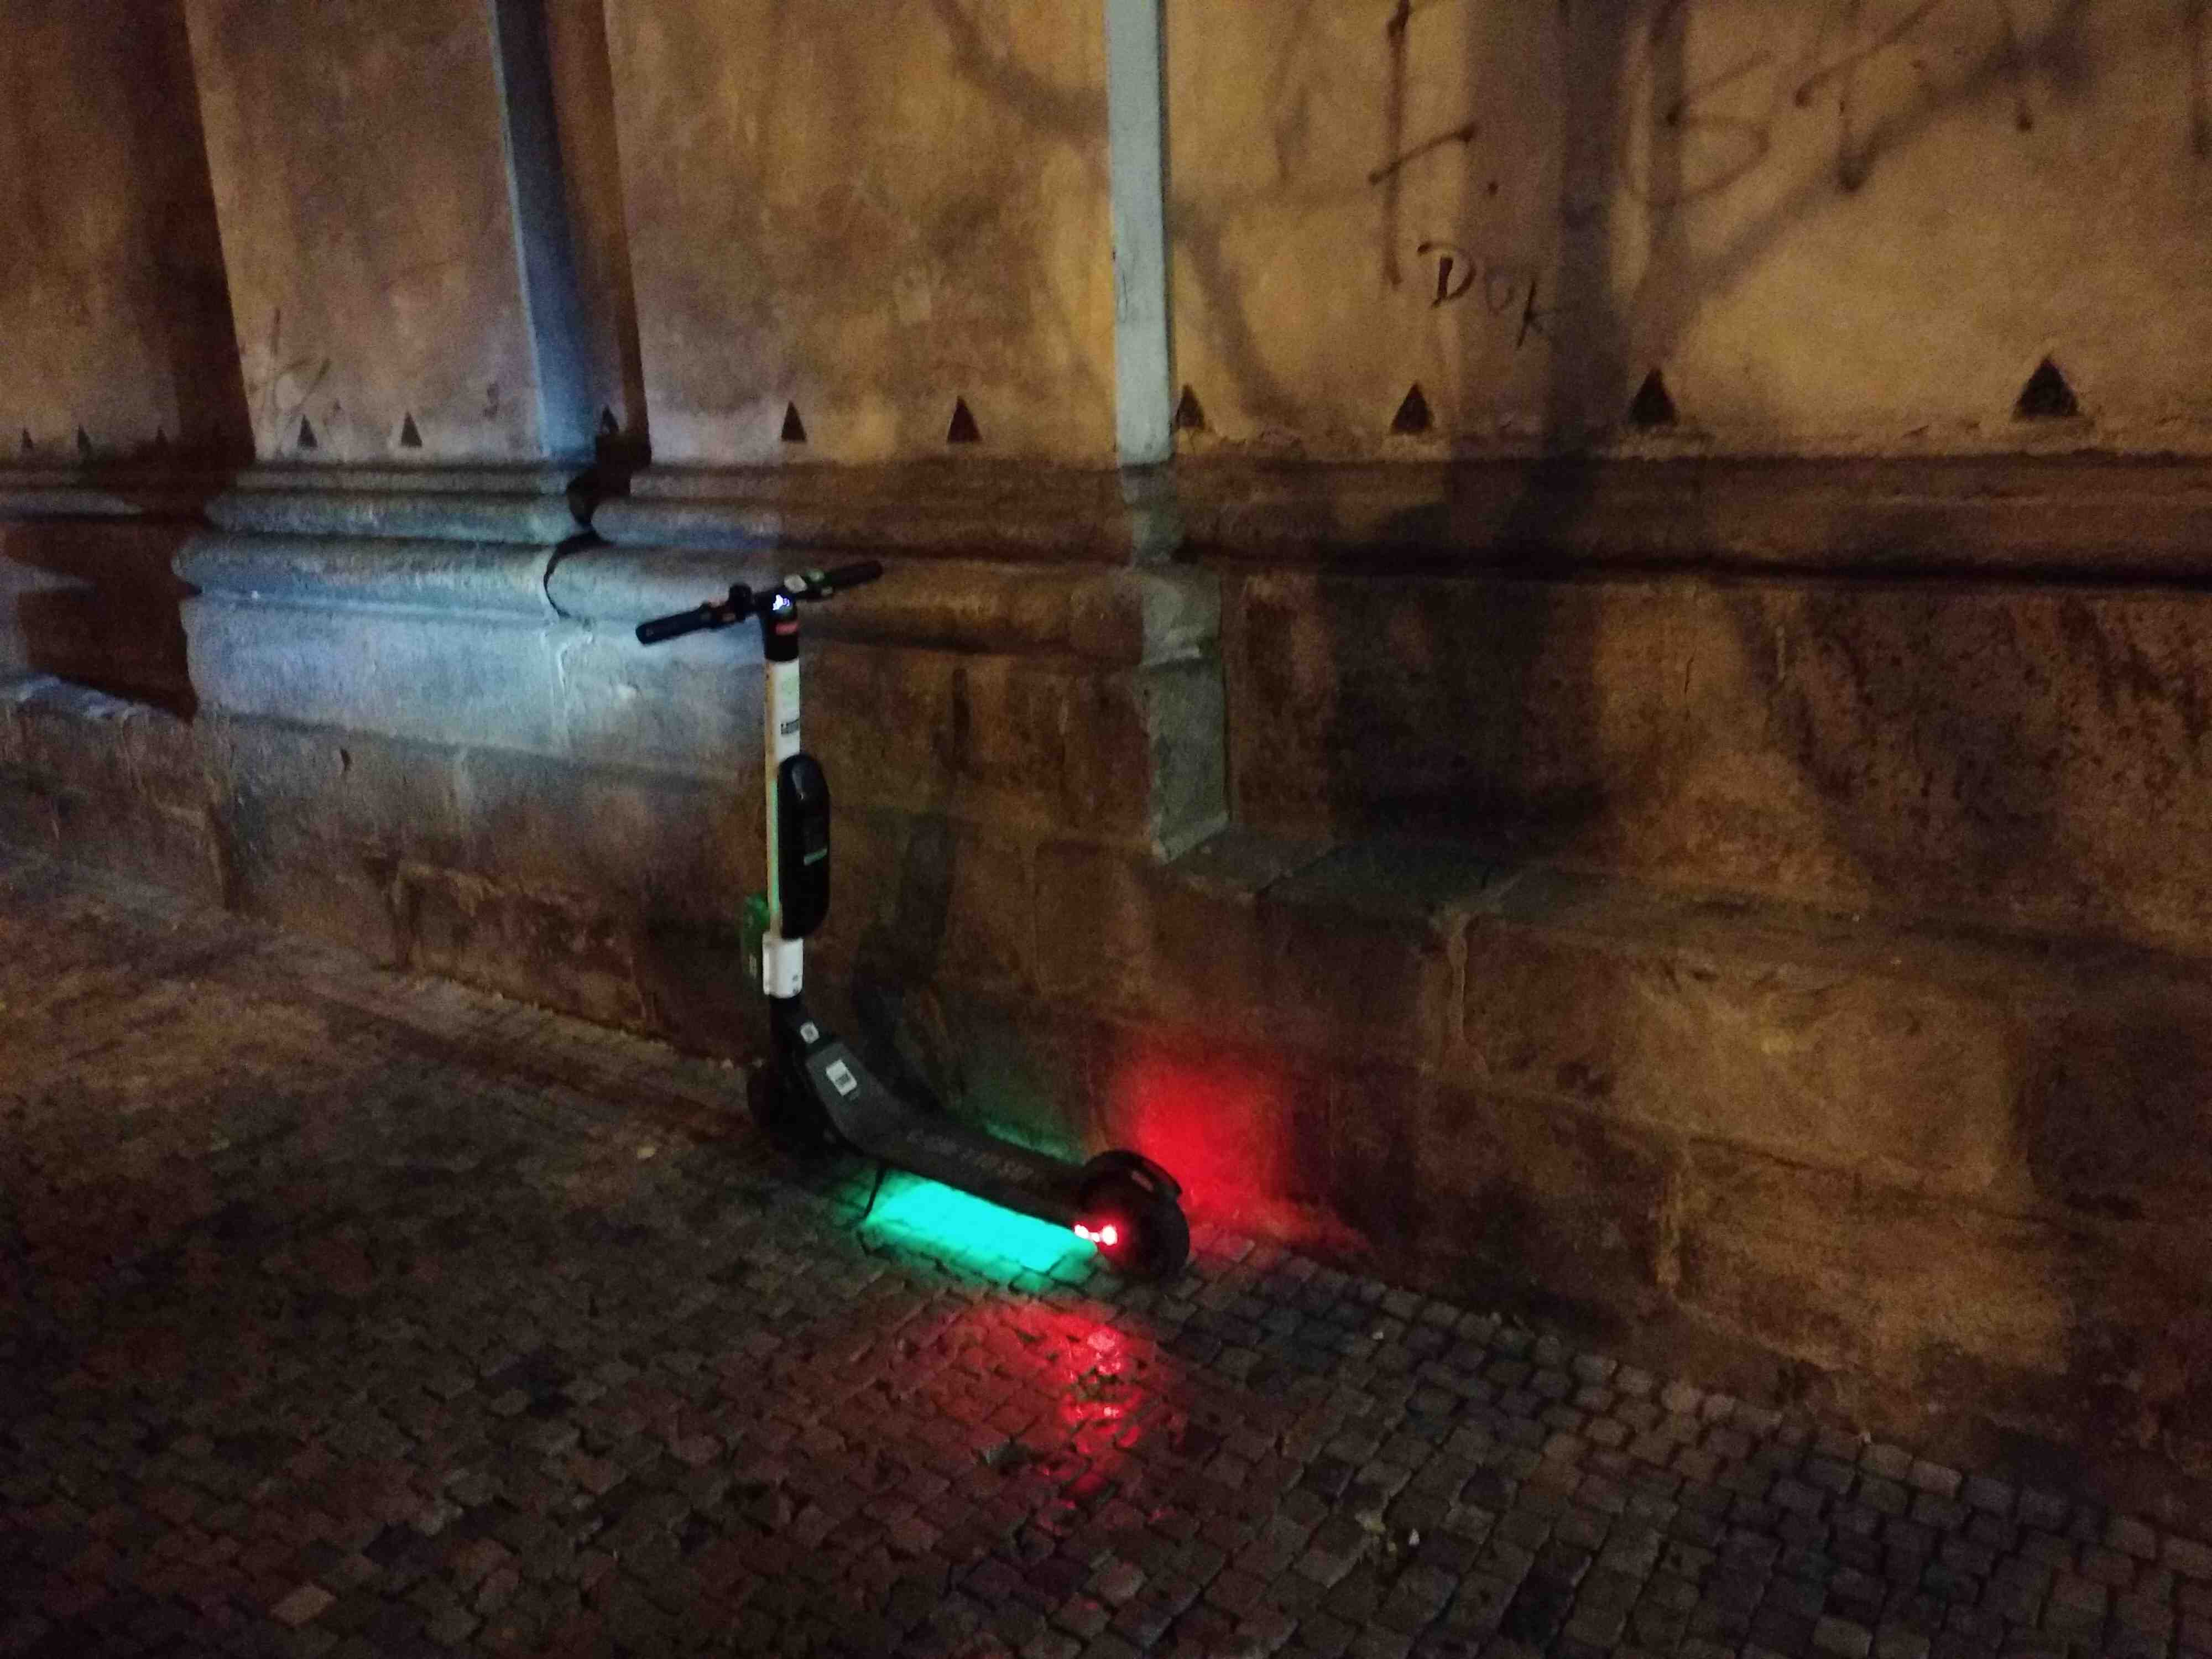scooter: (577, 511, 1226, 1352)
